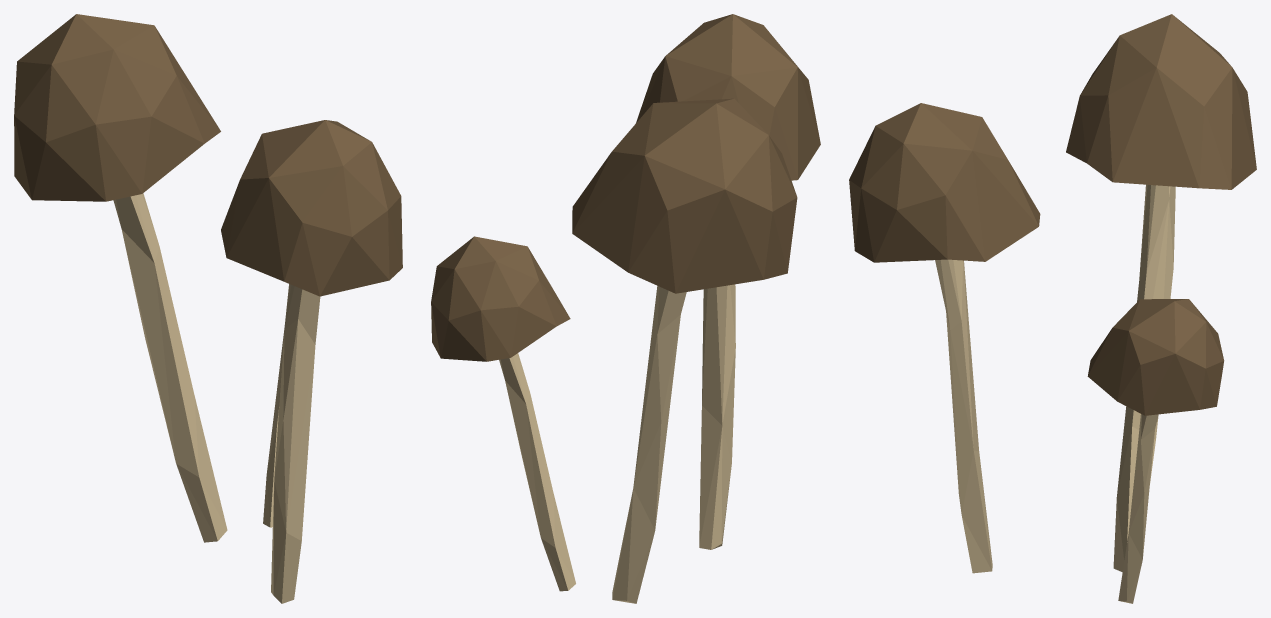
Rendered from Mushroom_02.fbx.
3 renders of one model, left to right at view 1: azimuth 30°, elevation 25°; view 2: azimuth 150°, elevation 25°; view 3: azimuth 270°, elevation 25°, orthographic. The views are drawn at different scales.
Visible parts, largest first — view 1: Mushroom_02; view 2: Mushroom_02; view 3: Mushroom_02.
Part boxes in pixels (x1,y1,x2,y2): Mushroom_02: [14, 14, 402, 603]; Mushroom_02: [431, 14, 820, 603]; Mushroom_02: [849, 14, 1256, 603].
Bounding box in the file's own units: 9.13 × 14.13 × 10.25.
